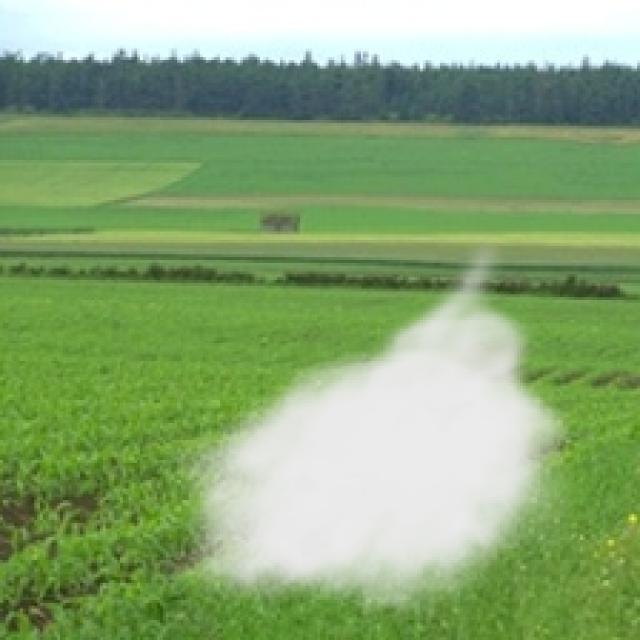smoke: (160, 231, 583, 623)
